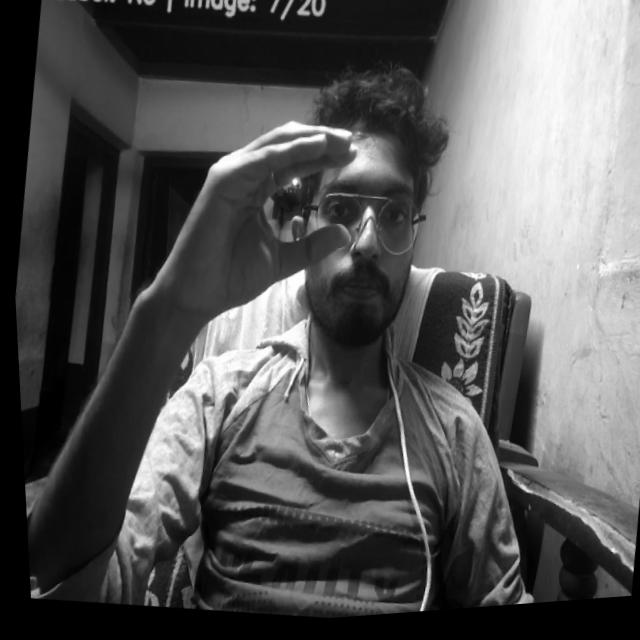No: (148, 104, 365, 344)
